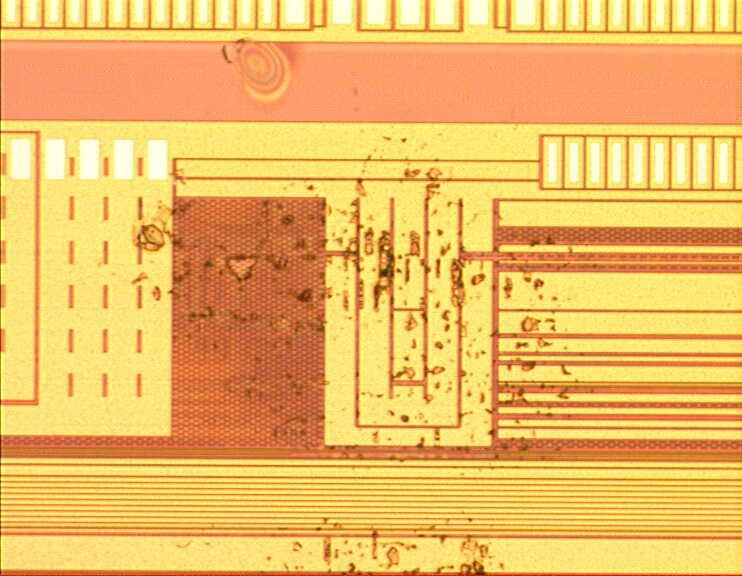PO CONTAMINATION: (120, 25, 594, 576)
